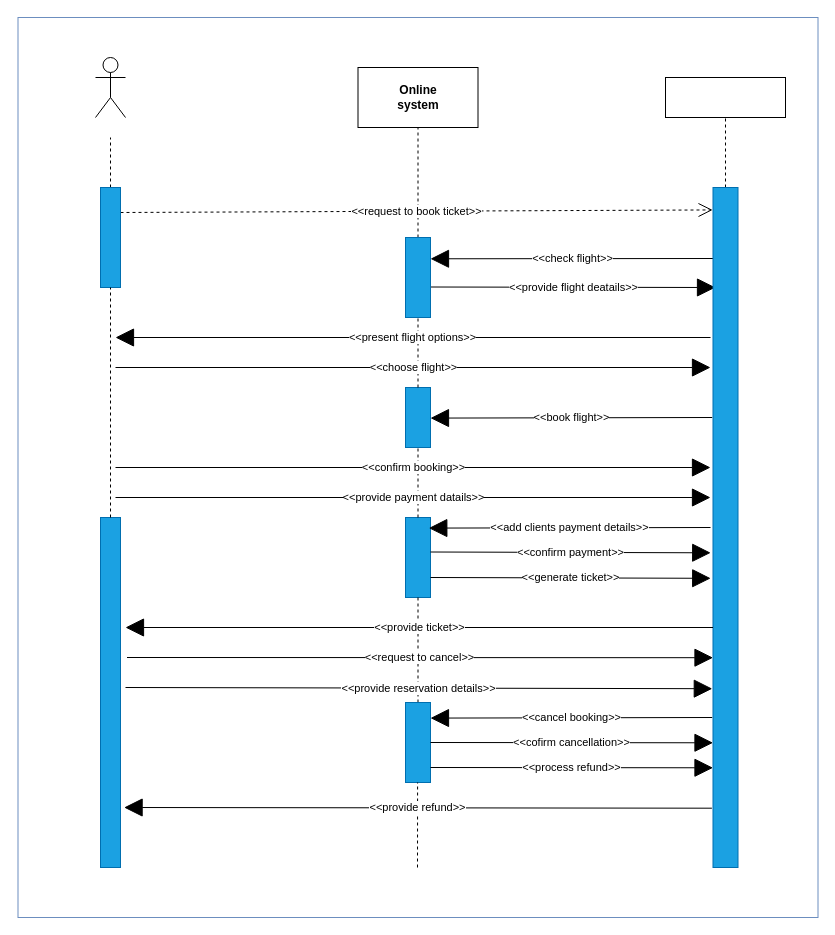
This 835x935 diagram has some shape labels left out. The shapes that lost their labels are listed below. From the top down, each one's box as (x1, y1, x2, y2) in pixels, then its label:
(94, 56, 126, 118): Actor
(664, 76, 786, 118): Counter
